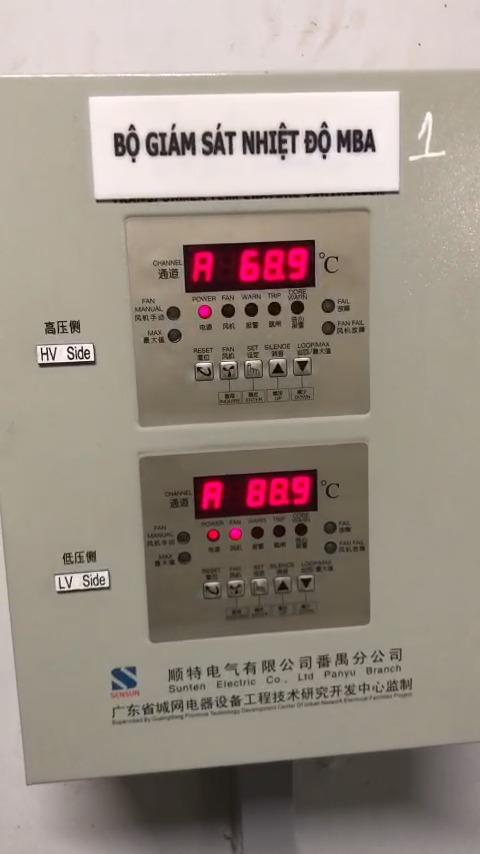led: (198, 304, 213, 320), (166, 305, 181, 320), (290, 300, 305, 314), (267, 301, 282, 315), (245, 302, 259, 317), (221, 304, 236, 318), (321, 320, 335, 335), (167, 329, 182, 343), (250, 526, 265, 540), (321, 299, 335, 313), (228, 527, 242, 541), (207, 529, 221, 543), (324, 541, 338, 555), (324, 521, 337, 535), (294, 523, 308, 536), (273, 524, 286, 538), (177, 531, 191, 544), (178, 551, 191, 565)
